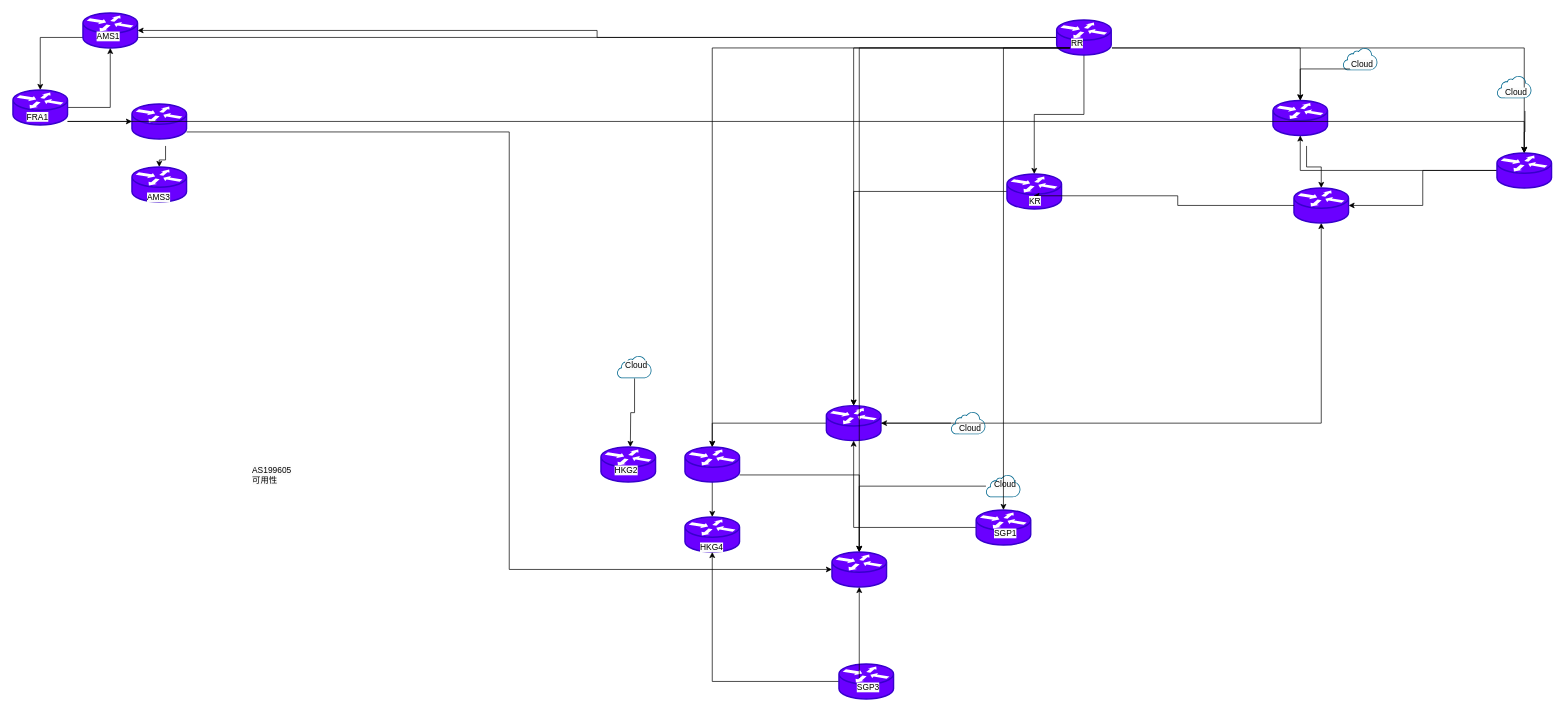
This 1565x725 diagram has some shape labels left out. Each missing label, with the box of its shape:
AMS2: (131, 103, 187, 139)
FMT: (1272, 99, 1328, 136)
HKG1: (825, 405, 881, 441)
HKG3: (684, 446, 740, 482)
MCI: (1496, 152, 1552, 188)
sgp4: (831, 551, 887, 587)
SJC: (1293, 187, 1349, 223)
